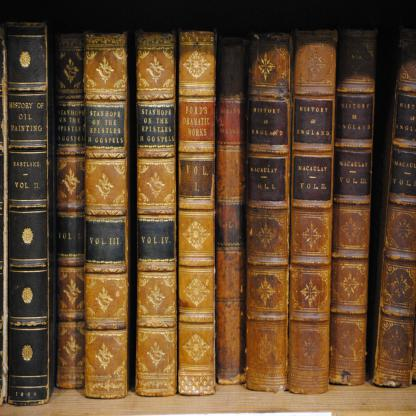book: (0, 26, 415, 405), (0, 12, 83, 404)
